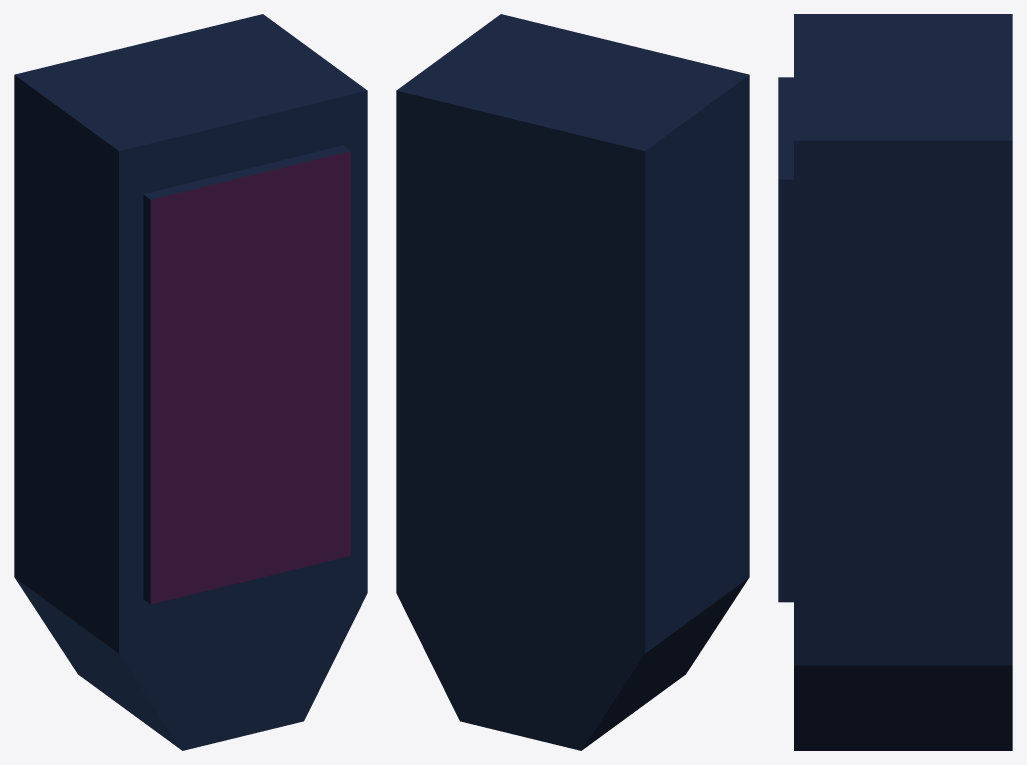
The model's file is BatBody.obj.
3 renders of one model, left to right at view 1: azimuth 30°, elevation 25°; view 2: azimuth 150°, elevation 25°; view 3: azimuth 270°, elevation 25°, orthographic. The views are drawn at different scales.
Visible parts, largest first — view 1: BatBody; view 2: BatBody; view 3: BatBody.
Boxes of the visible parts, left/top/right/bottom form: BatBody: left=14, top=14, right=367, bottom=750; BatBody: left=396, top=14, right=749, bottom=750; BatBody: left=778, top=14, right=1012, bottom=750.
Bounding box in the file's own units: 0.8094 × 1.91 × 0.6327.
